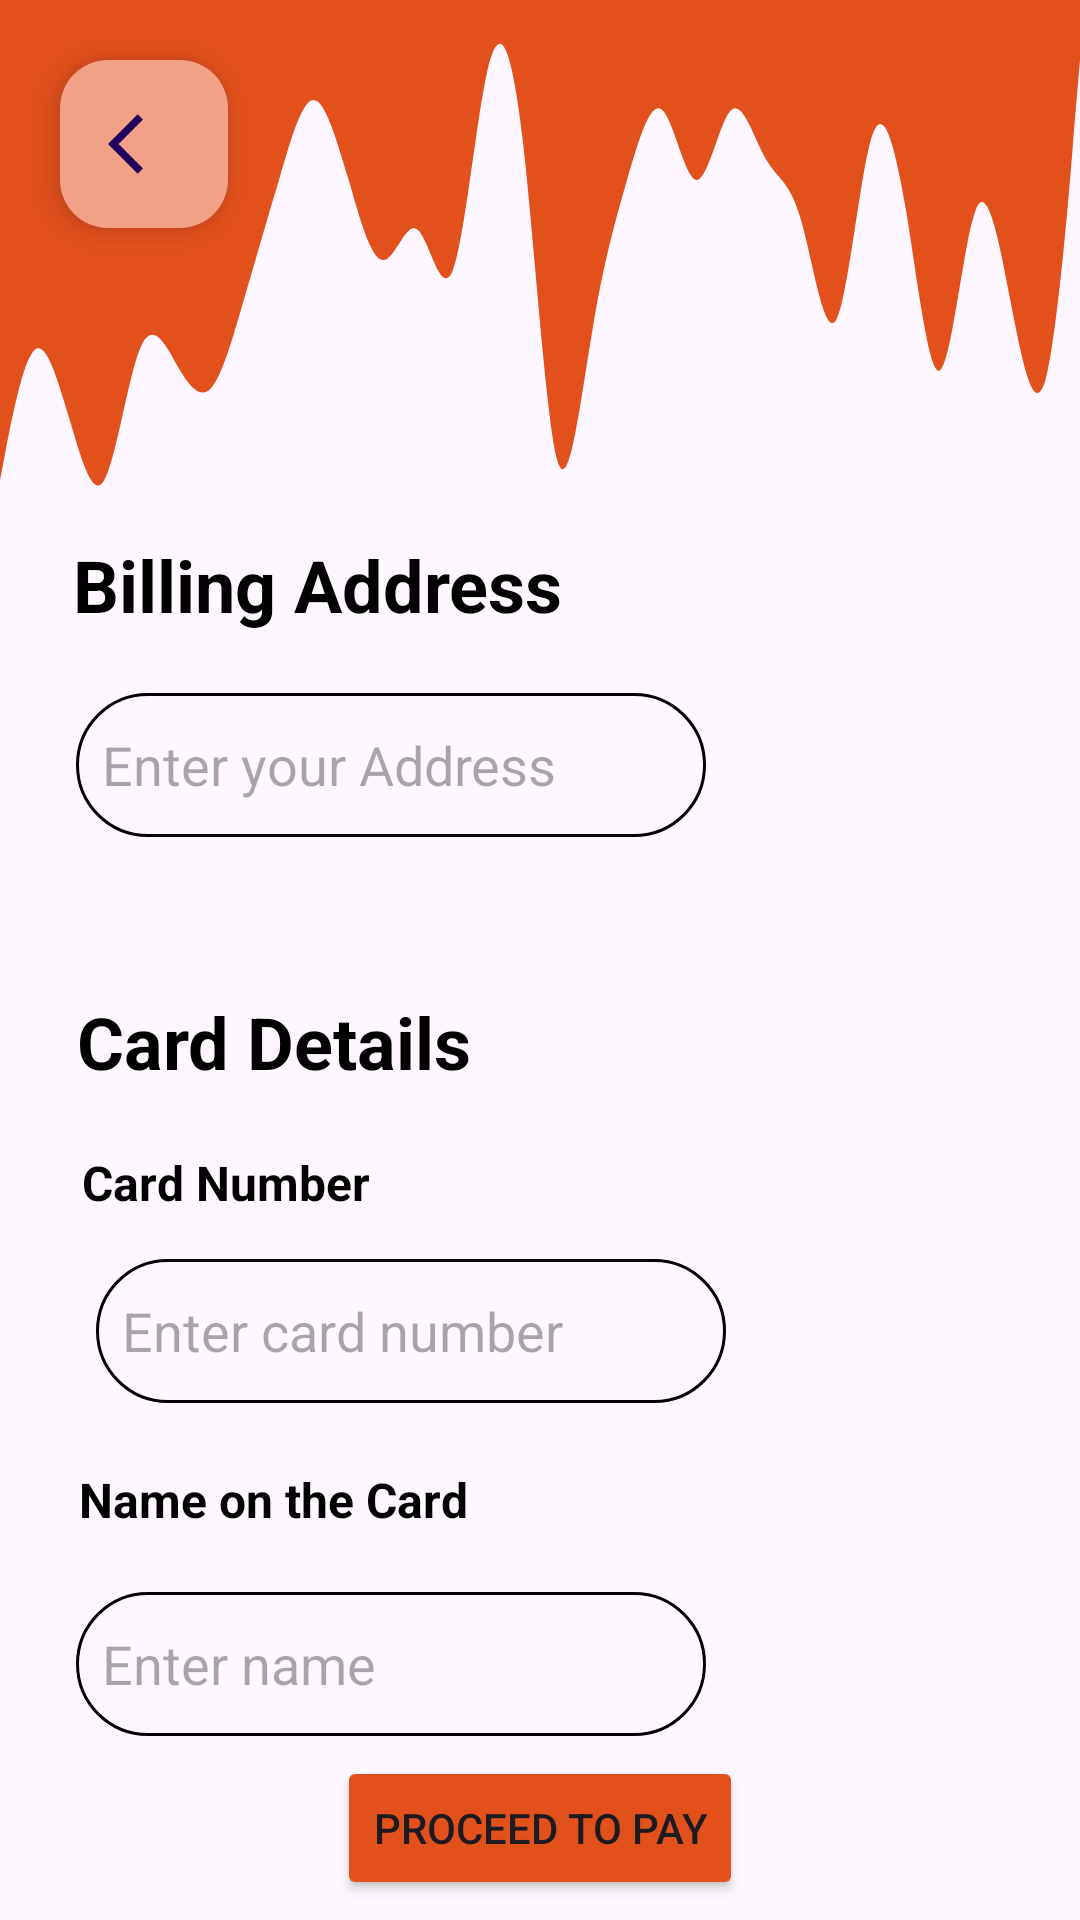

Where icons sit on this 1080w x 1920h app screen, as (x1, y1, x2, y2):
arrow back: (60, 60, 228, 228)
